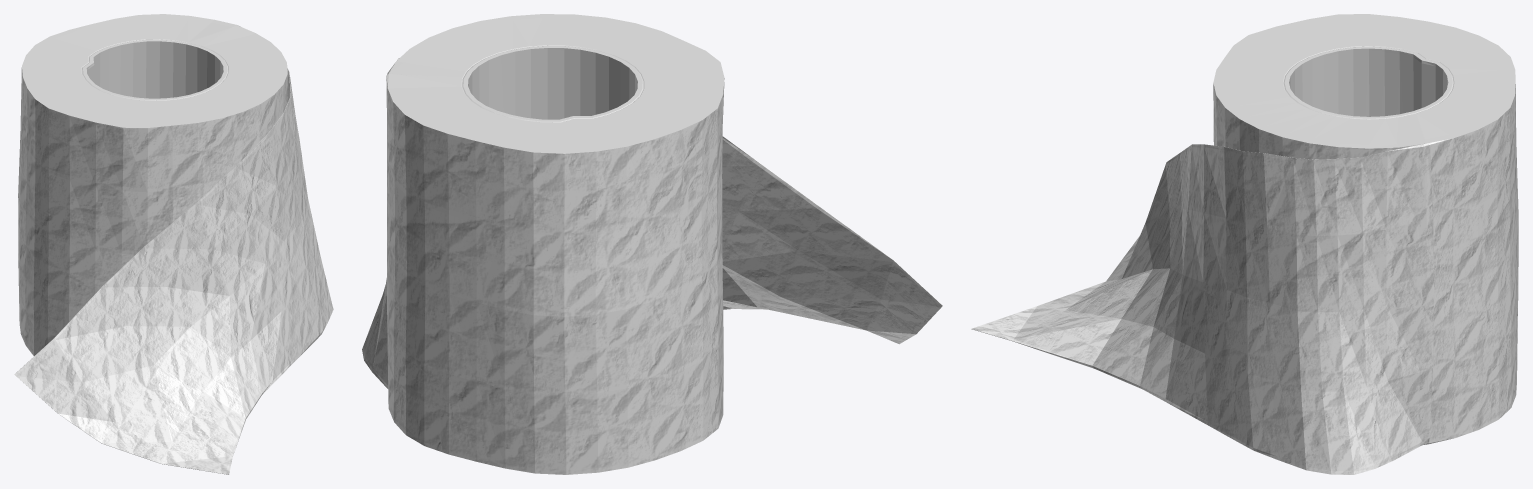
File: toilet_paper.dae
3 renders of one model, left to right at view 1: azimuth 30°, elevation 25°; view 2: azimuth 150°, elevation 25°; view 3: azimuth 270°, elevation 25°, orthographic. The views are drawn at different scales.
Visible parts, largest first — view 1: Circle; view 2: Circle; view 3: Circle.
Part boxes in pixels (x1,y1,x2,y2): Circle: [14, 14, 333, 474]; Circle: [362, 14, 942, 474]; Circle: [971, 14, 1518, 474].
Bounding box in the file's own units: 0.1535 × 0.1607 × 0.0979.
Materials: 3 (1 with a texture image).
